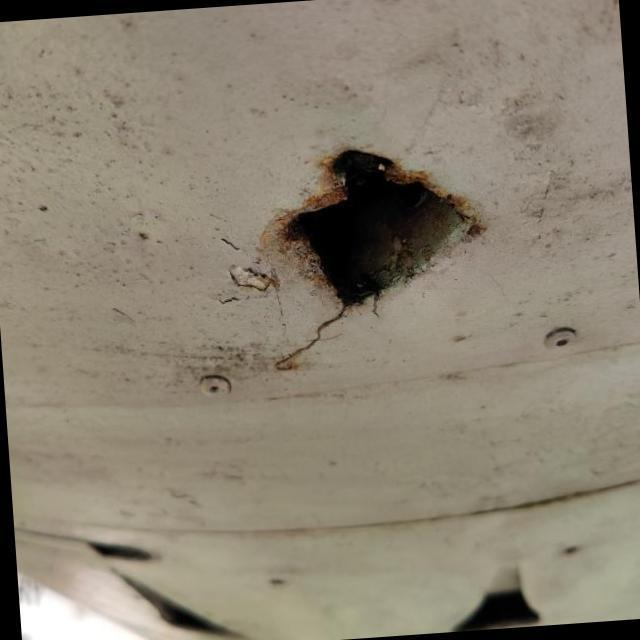Rupture: (234, 110, 523, 394)
